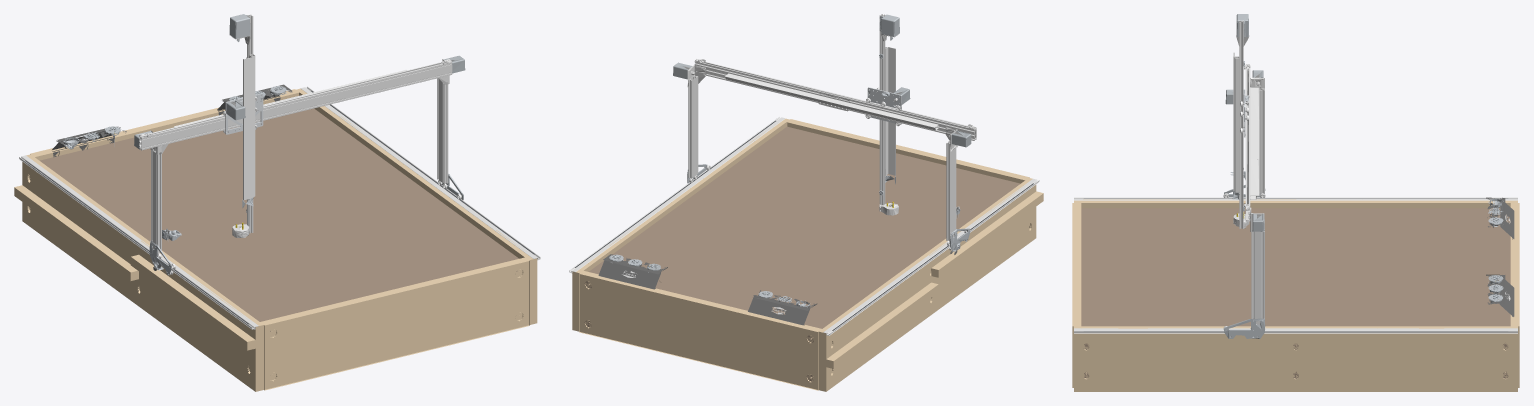
File: farmbot_model.glb
3 renders of one model, left to right at view 1: azimuth 30°, elevation 25°; view 2: azimuth 150°, elevation 25°; view 3: azimuth 270°, elevation 25°, orthographic. The views are drawn at different scales.
Parts seen in each view (by area): view 1: Static, Gantry_X, Y_Carriage, Z_Extension; view 2: Static, Gantry_X, Y_Carriage, Z_Extension; view 3: Static, Gantry_X, Y_Carriage, Z_Extension.
Part boxes in pixels (left/top/right/bottom): Static: left=14, top=84, right=540, bottom=391; Gantry_X: left=134, top=55, right=465, bottom=275; Y_Carriage: left=223, top=14, right=263, bottom=208; Z_Extension: left=232, top=14, right=253, bottom=237; Static: left=569, top=117, right=1043, bottom=391; Gantry_X: left=673, top=59, right=976, bottom=254; Y_Carriage: left=865, top=14, right=910, bottom=184; Z_Extension: left=879, top=14, right=898, bottom=215; Static: left=1072, top=197, right=1519, bottom=391; Gantry_X: left=1223, top=64, right=1265, bottom=338; Y_Carriage: left=1225, top=14, right=1249, bottom=199; Z_Extension: left=1233, top=20, right=1249, bottom=228.
Size of the model in its own units: 1.58 by 1.35 by 1.96.
